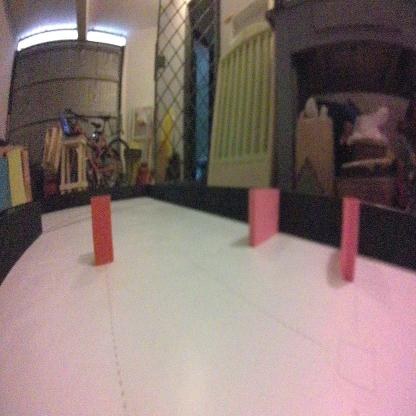magenta: (246, 185, 280, 249), (336, 196, 360, 284)
red: (88, 192, 112, 266)
